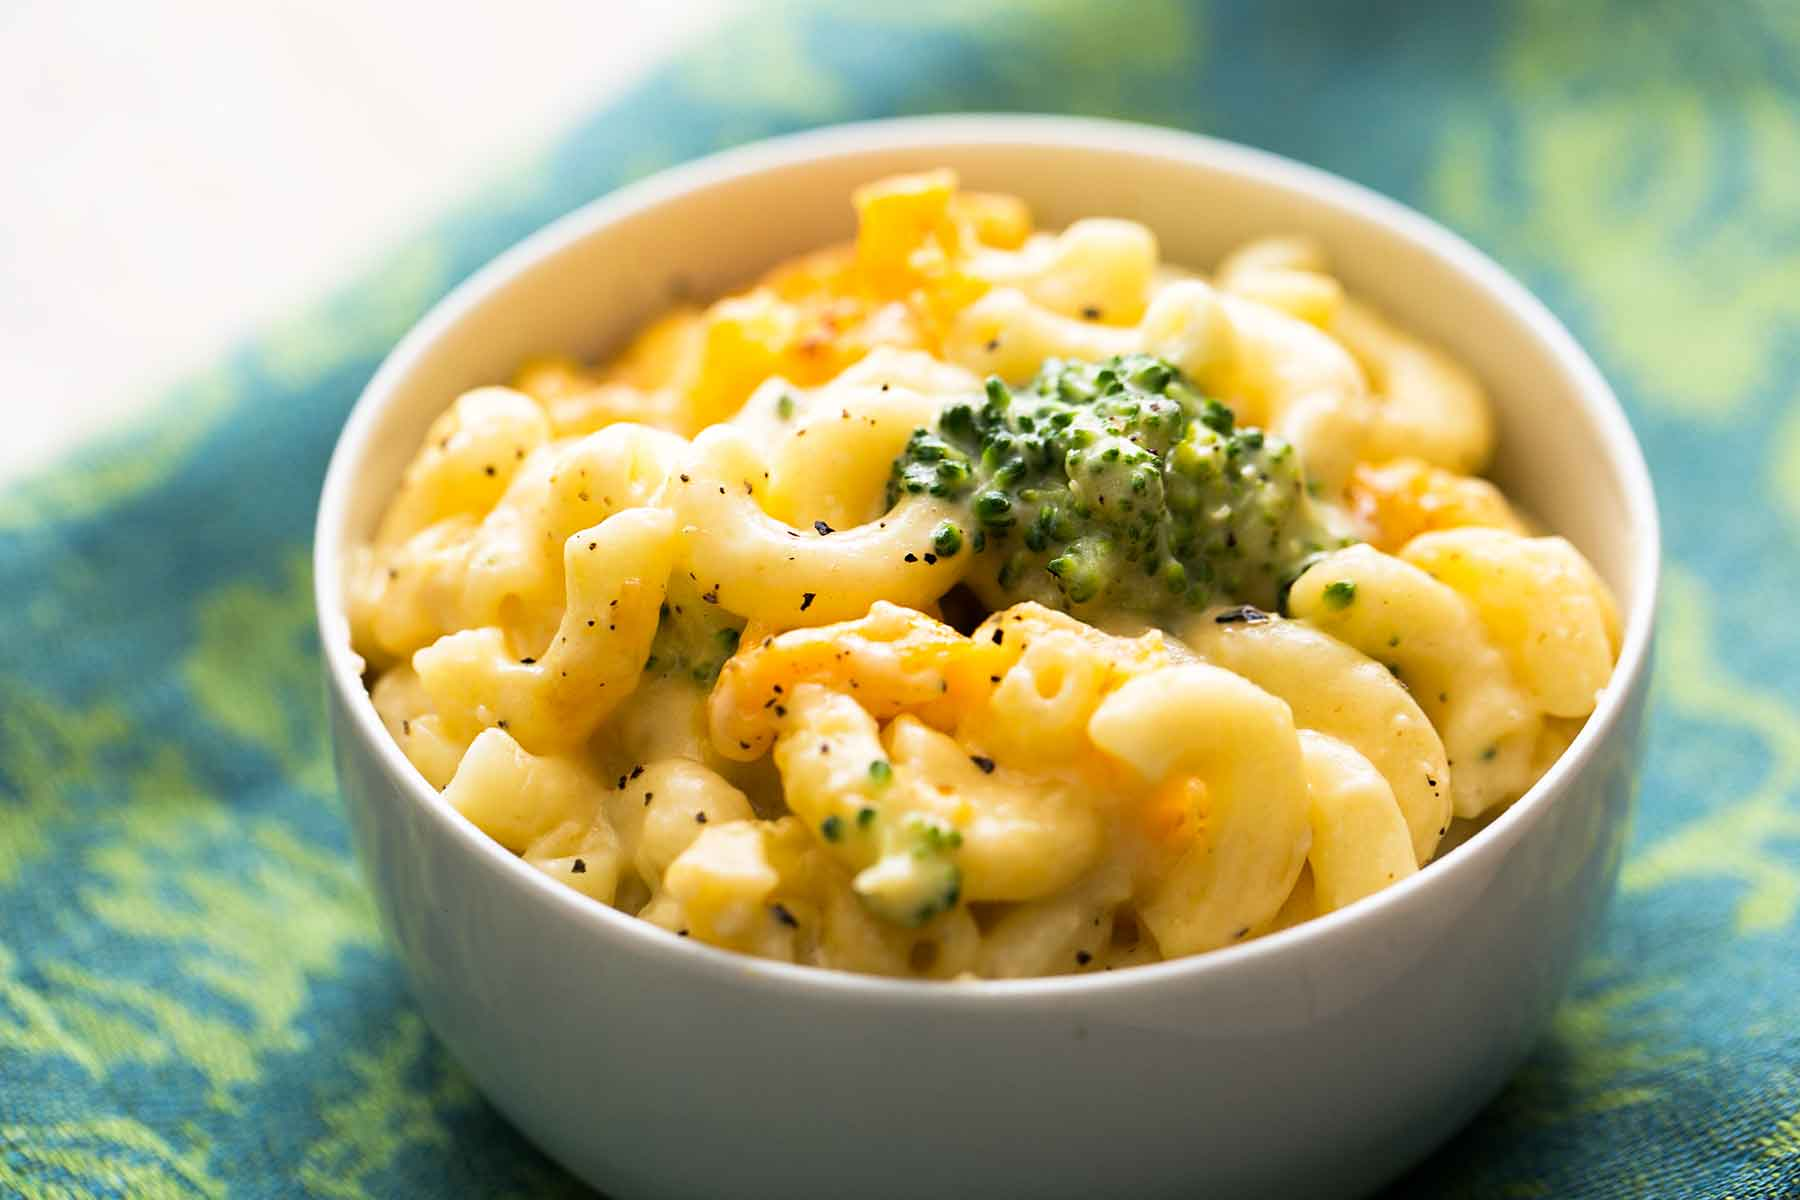macncheese: (379, 112, 1653, 1069)
